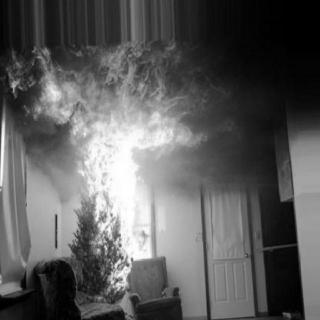Fire: (8, 48, 224, 154)
Smoke: (190, 20, 292, 161)
